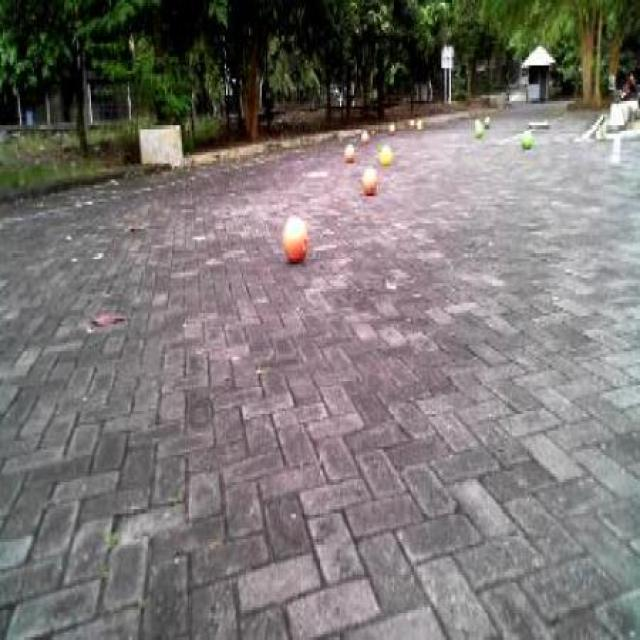buoy: (275, 208, 312, 268), (356, 162, 382, 201), (516, 124, 536, 154), (339, 138, 359, 166), (376, 144, 396, 172)
